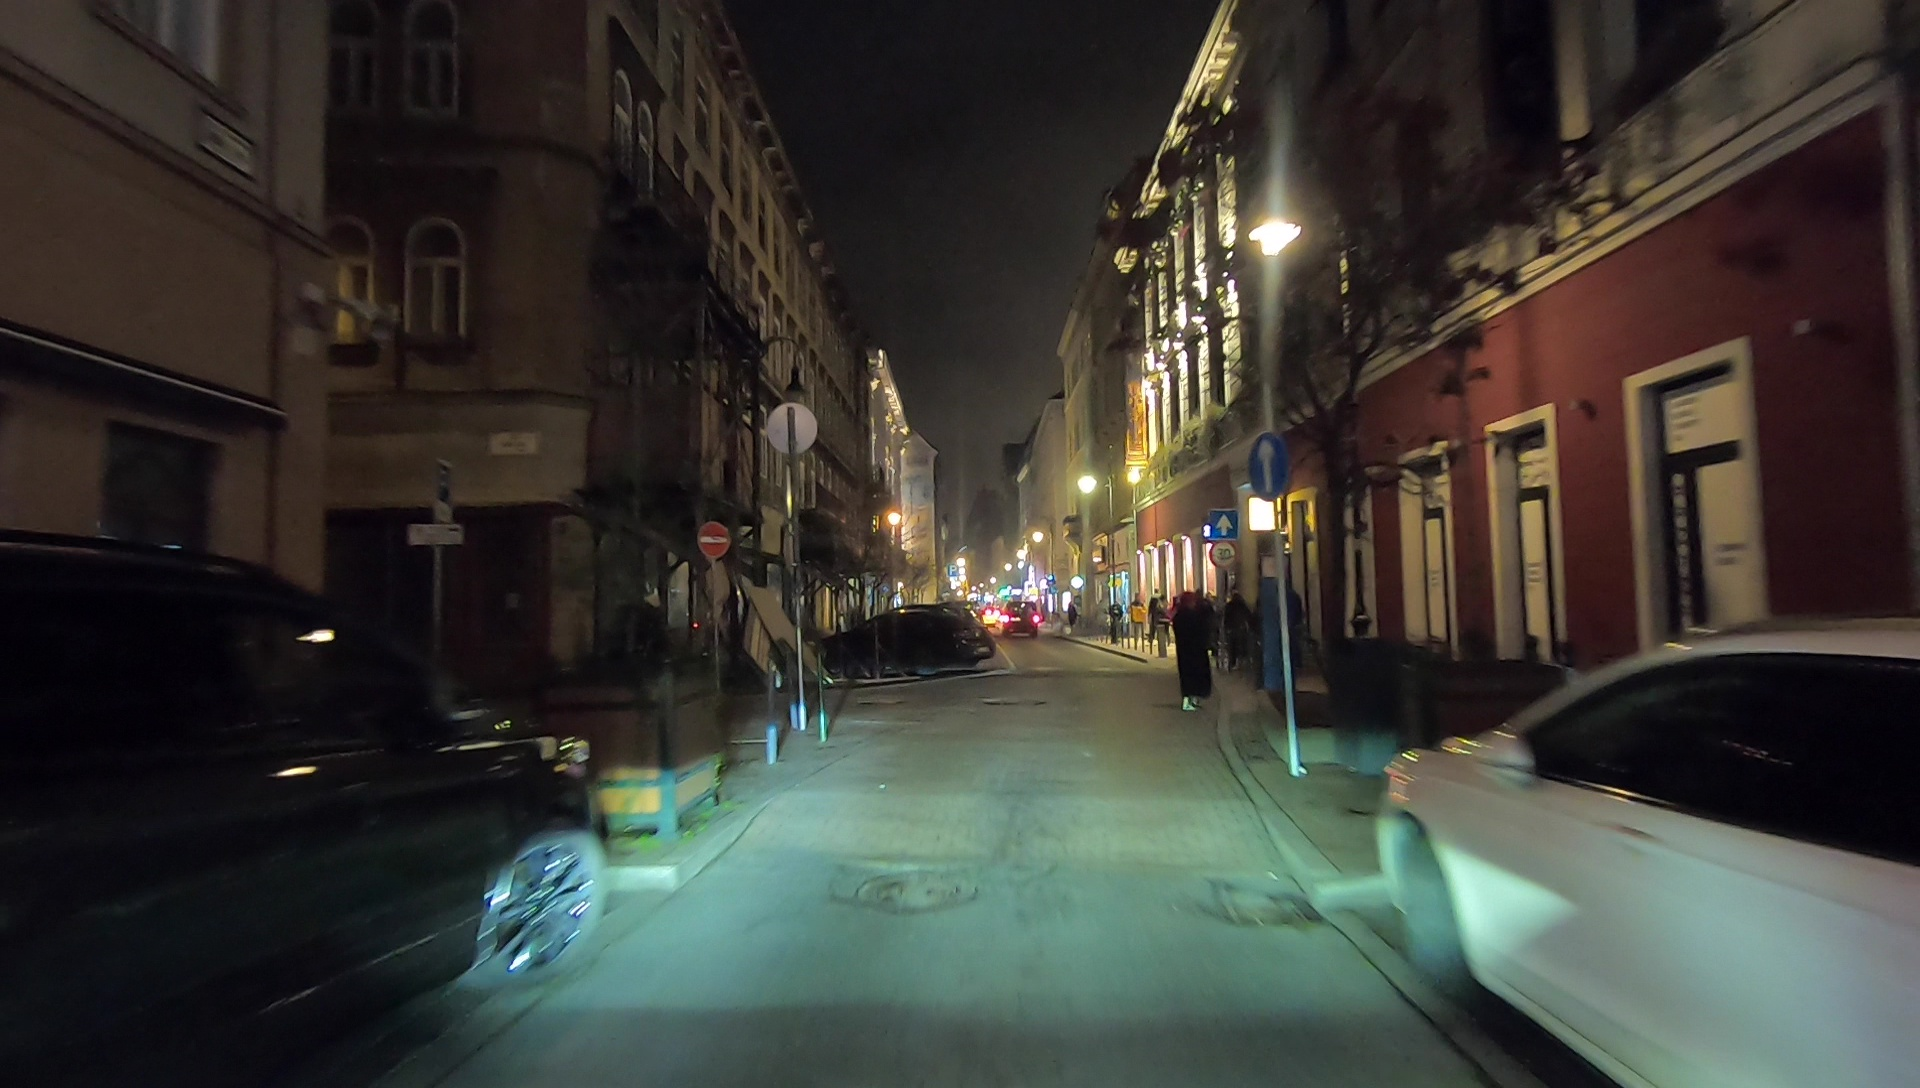person: (1175, 597, 1214, 711), (1222, 587, 1248, 677), (1149, 587, 1169, 645), (1130, 595, 1146, 647)
